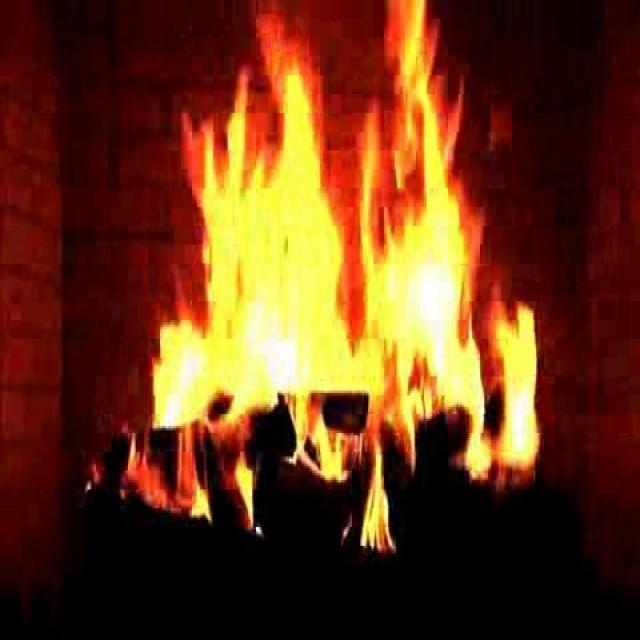Fire: (141, 38, 555, 506)
